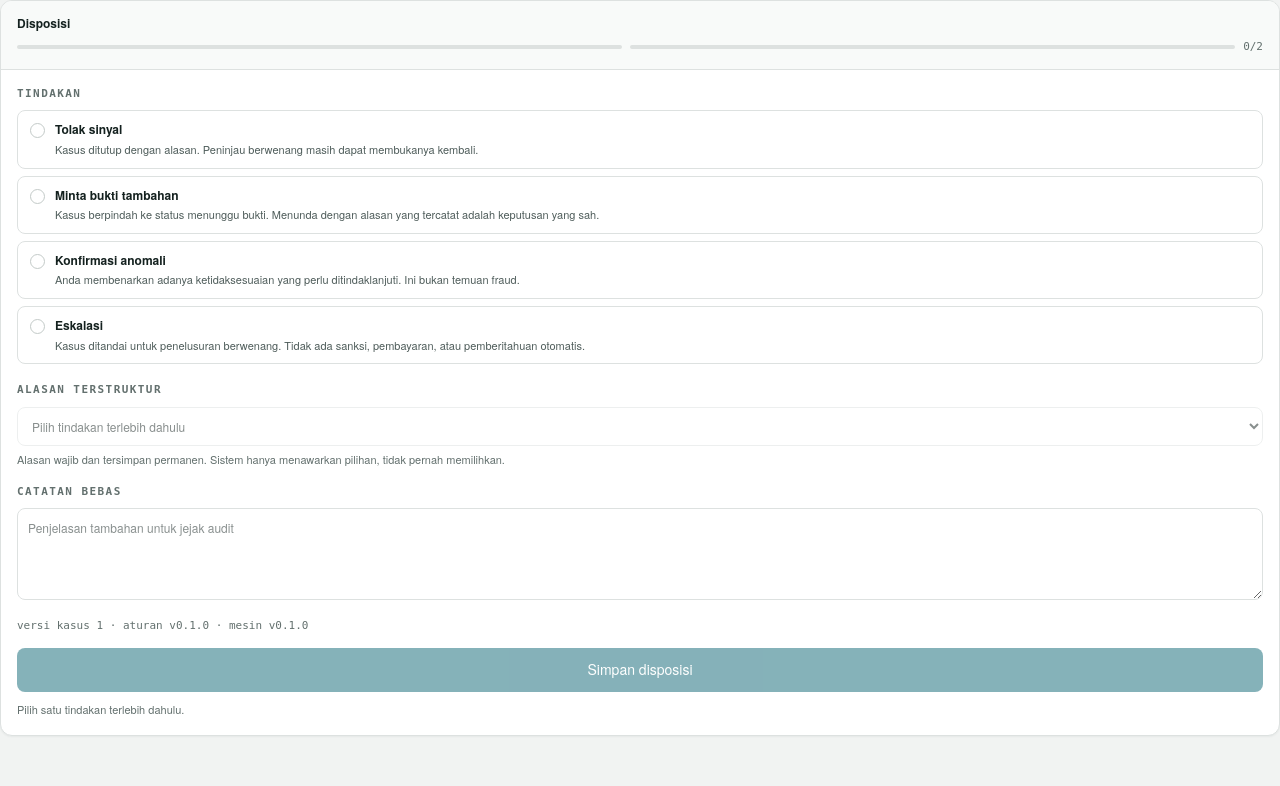
Test: requested evidence › appears only for "minta bukti tambahan"
The width and height of the screenshot is (1280, 786).
Check: the text "BUKTI YANG DIMINTA" is not shown
Click the radio button labelled "Minta bukti tambahan": (38, 196) [30,188,45,204]
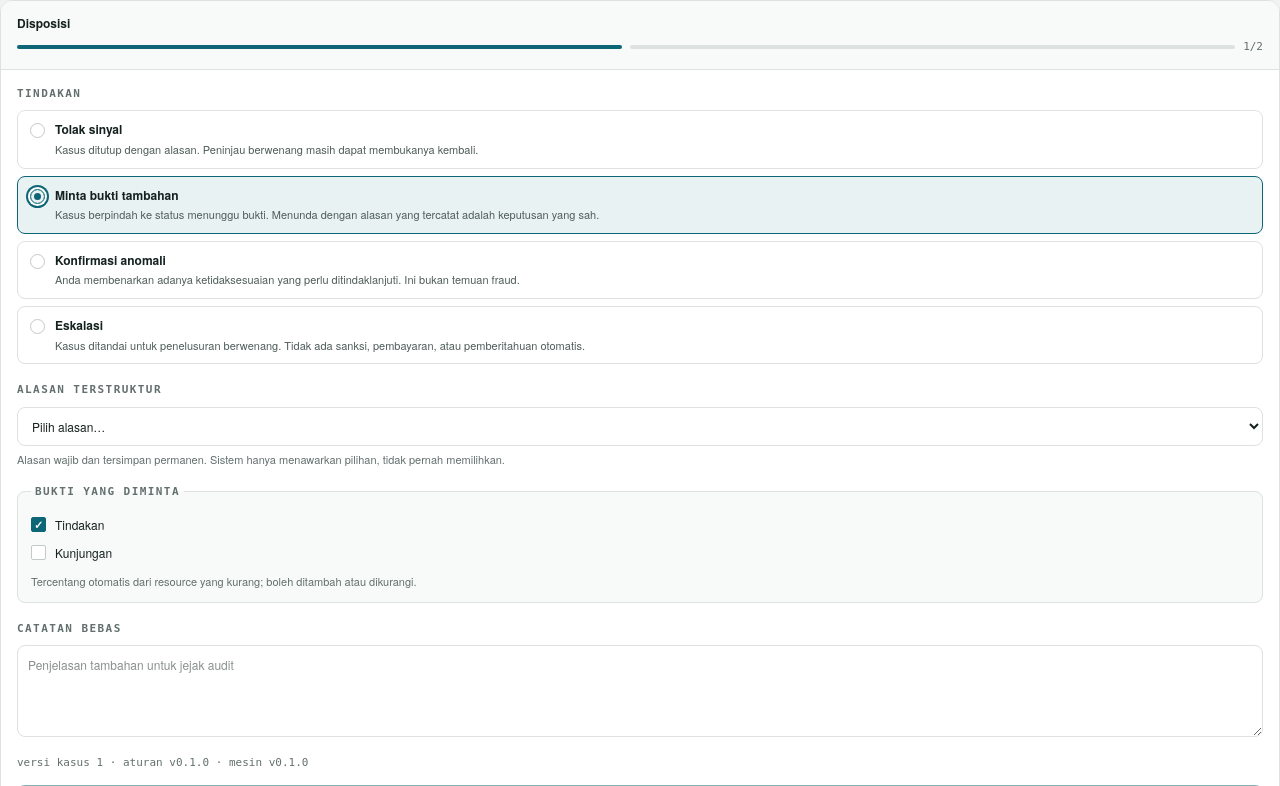
Check: the text "BUKTI YANG DIMINTA" is shown, box [31,484,184,499]
